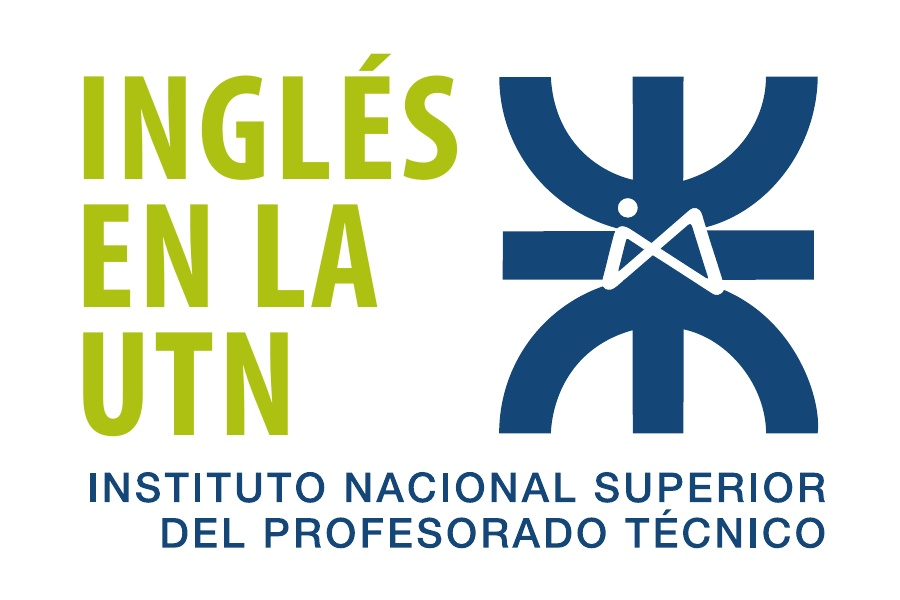utn: (493, 68, 824, 441)
